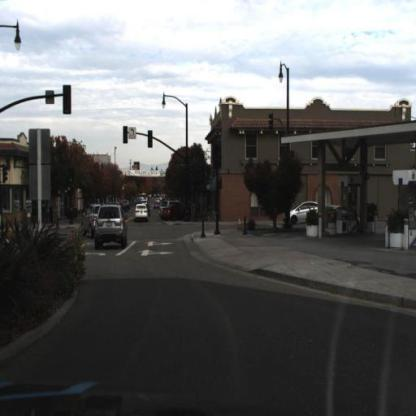car: (93, 202, 127, 249), (288, 199, 322, 223), (81, 202, 99, 240), (163, 204, 187, 221), (132, 204, 148, 220)
trafficLight-Green: (147, 130, 153, 146)
trafficLight-RedLeft: (122, 126, 127, 143)
